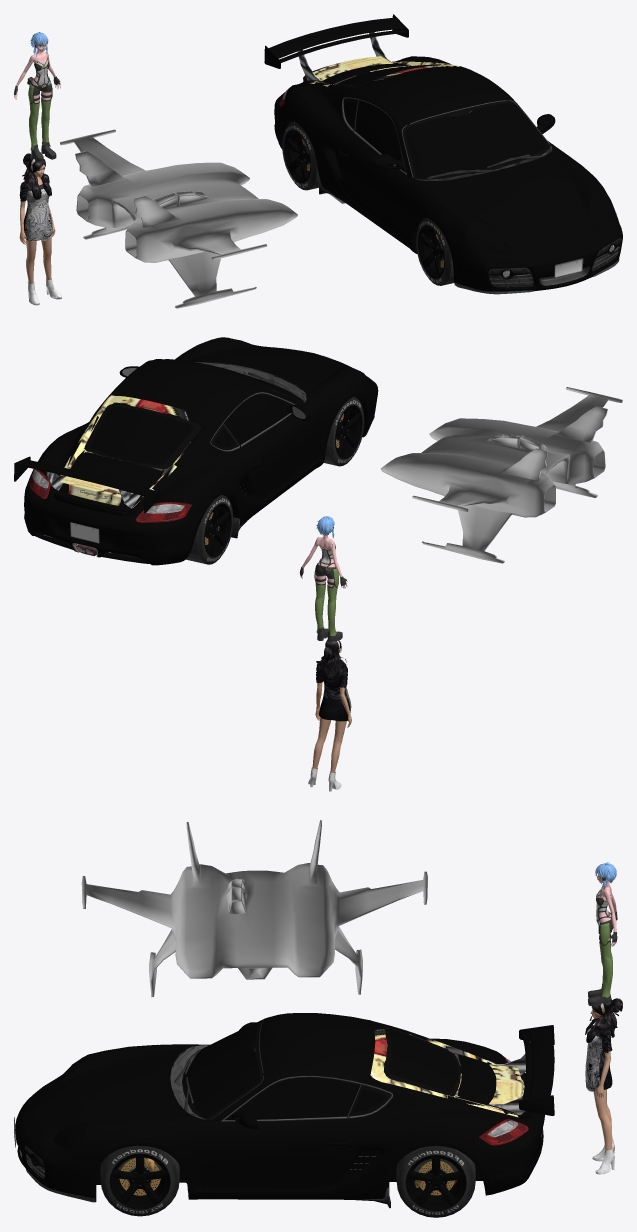
Rendered from porsche-cayman-vray.fbx.
3 views of the same model, one above another, from view 1: azimuth 30°, elevation 25°; view 2: azimuth 150°, elevation 25°; view 3: azimuth 270°, elevation 25° (orthographic). The views are drawn at different scales.
Visible parts, largest first — view 1: Body, ScoutShip_ScoutShip, Base_Detached, Hood, Base, girl_pivot, SuperSpoiler, TireFR, TireRR, USpoiler, Spoiler, HLightRG (+4 smaller); view 2: Body, ScoutShip_ScoutShip, Base, Base_Detached, girl_pivot, Hood, Spoiler, USpoiler, TireRR, TireFR, SuperSpoiler, BLightR (+2 smaller); view 3: Body, ScoutShip_ScoutShip, Base, Base_Detached, Hood, TireRL, TireFL, girl_pivot, USpoiler, SuperSpoiler, Spoiler, BLightL (+4 smaller).
Part boxes in pixels (x1,y1,x2,y2): Body: [274, 56, 622, 294]; ScoutShip_ScoutShip: [60, 129, 297, 308]; Base_Detached: [340, 65, 547, 178]; Hood: [435, 153, 588, 247]; Base: [316, 65, 552, 180]; girl_pivot: [19, 153, 61, 305]; SuperSpoiler: [264, 14, 408, 68]; TireFR: [416, 217, 454, 285]; TireRR: [282, 121, 318, 190]; USpoiler: [297, 32, 459, 86]; Spoiler: [305, 61, 442, 92]; HLightRG: [465, 221, 504, 251]; Body: [24, 337, 378, 565]; ScoutShip_ScoutShip: [380, 387, 622, 563]; Base: [67, 359, 306, 481]; Base_Detached: [90, 367, 301, 465]; girl_pivot: [308, 640, 351, 791]; Hood: [189, 347, 343, 390]; Spoiler: [55, 402, 213, 509]; USpoiler: [46, 395, 190, 508]; TireRR: [186, 495, 233, 564]; TireFR: [324, 397, 364, 466]; SuperSpoiler: [14, 456, 160, 513]; BLightR: [136, 502, 191, 522]; Body: [15, 1013, 544, 1208]; ScoutShip_ScoutShip: [81, 820, 427, 997]; Base: [170, 1013, 465, 1121]; Base_Detached: [185, 1021, 458, 1119]; Hood: [35, 1049, 186, 1128]; TireRL: [396, 1146, 475, 1217]; TireFL: [100, 1145, 179, 1216]; girl_pivot: [585, 998, 622, 1174]; USpoiler: [370, 1029, 525, 1117]; SuperSpoiler: [519, 1025, 554, 1115]; Spoiler: [370, 1020, 521, 1116]; BLightL: [479, 1118, 528, 1145].
Size of what is drawn, in the model's own units: 4.77 by 2.72 by 4.97.
